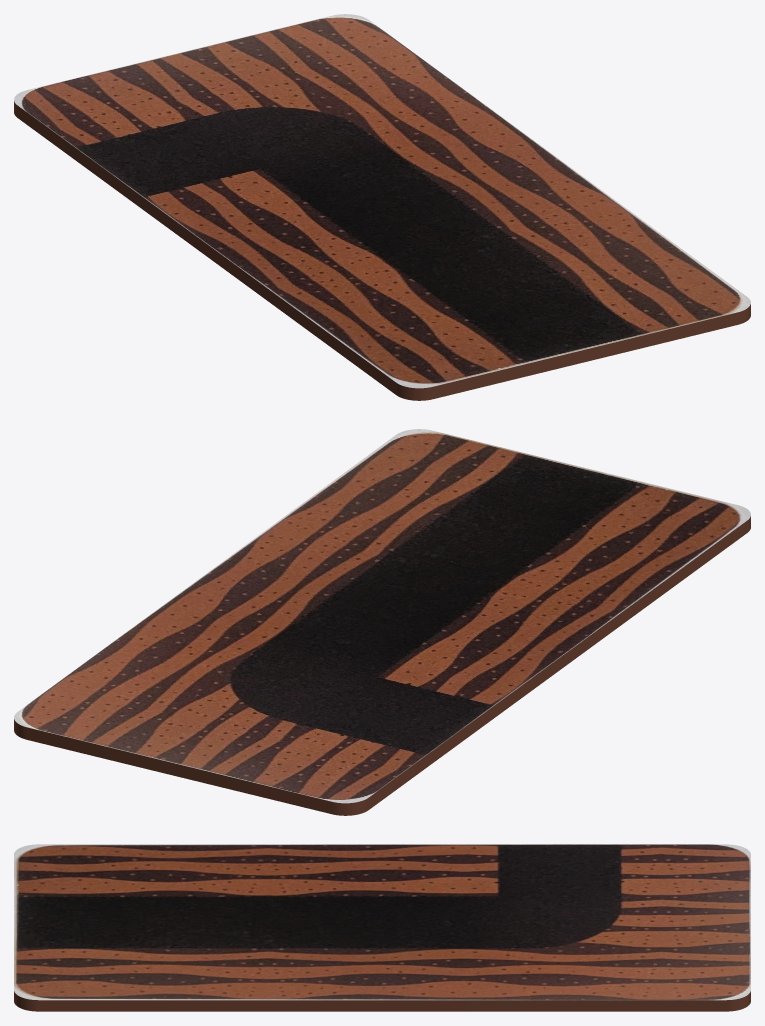
3 views of the same model, one above another, from view 1: azimuth 30°, elevation 25°; view 2: azimuth 150°, elevation 25°; view 3: azimuth 270°, elevation 25° (orthographic). The views are drawn at different scales.
Visible parts, largest first — view 1: g24; view 2: g24; view 3: g24.
Part boxes in pixels (x1=…): g24: x1=14, y1=14, x2=750, y2=400; g24: x1=14, y1=429, x2=750, y2=815; g24: x1=14, y1=844, x2=750, y2=1011.
Bounding box in the file's own units: 0.044 × 0.0015 × 0.088.
Materials: 3 (2 with a texture image).
